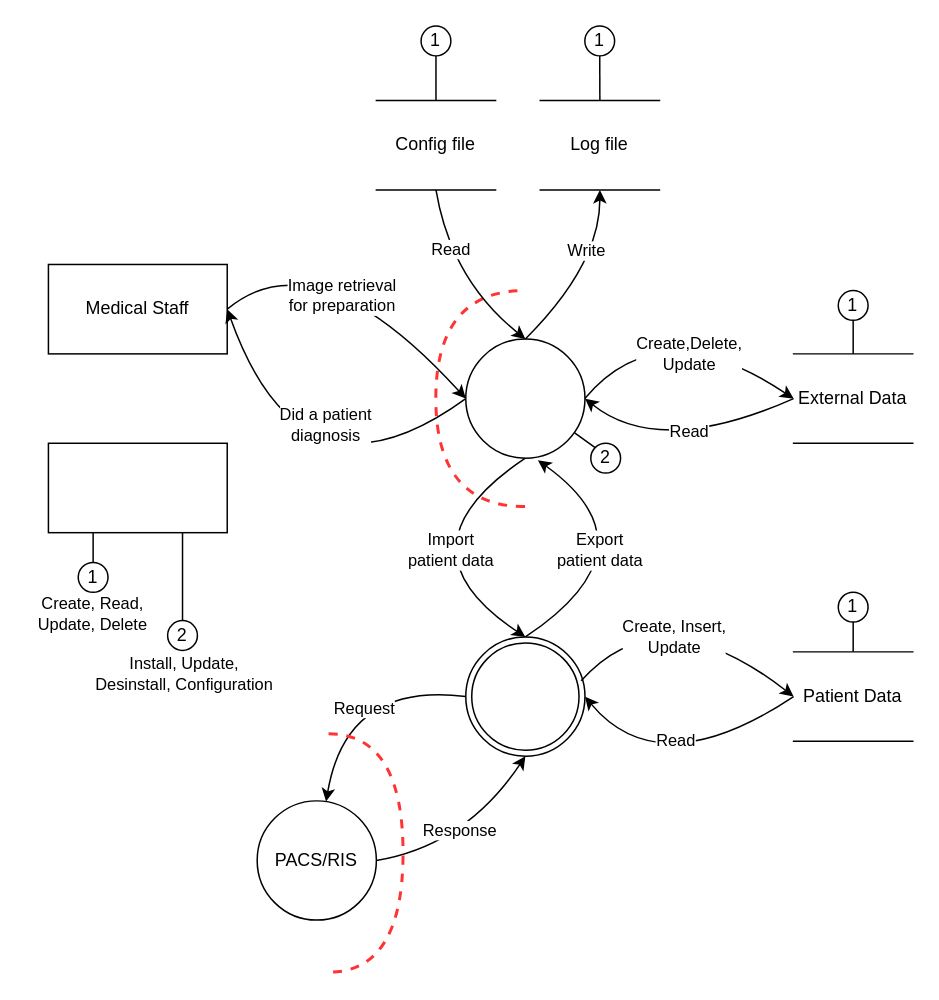
This 939x1000 diagram has some shape labels left out. The shapes that lost their labels are listed below. From the top down, each one's centre as x and y in pixels, then its label:
At (x=524, y=397): "Medical Imaging Software".
At (x=137, y=487): "Technical staff".
At (x=524, y=695): "Manage exam".
